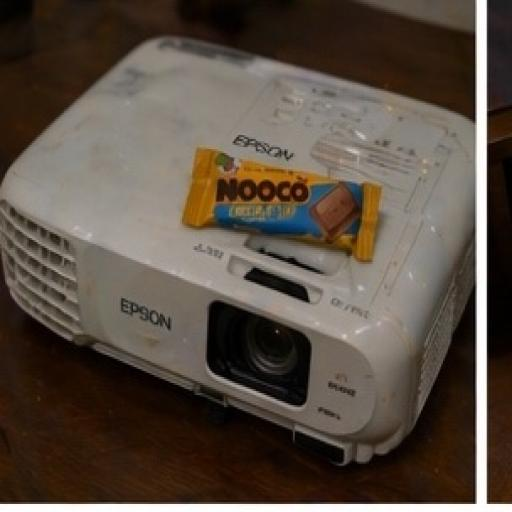biscuit-detection: (175, 123, 391, 282)
